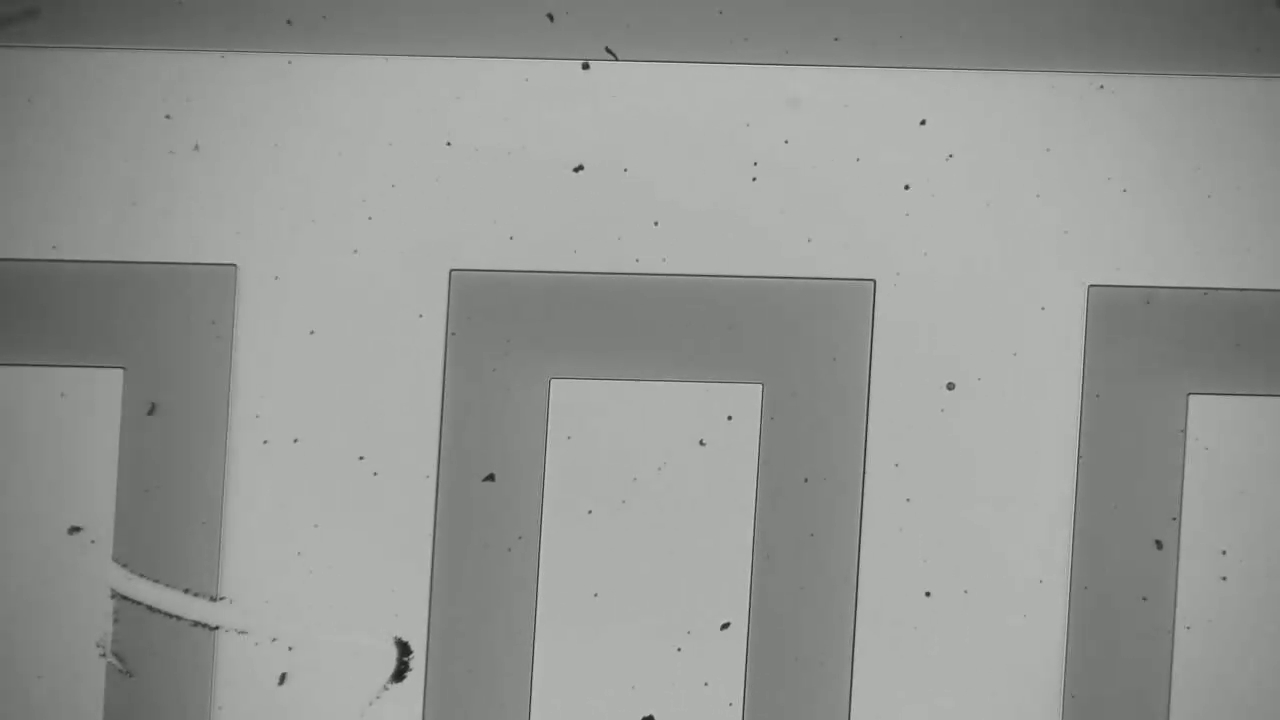Short_circuit: (79, 536, 267, 656)
